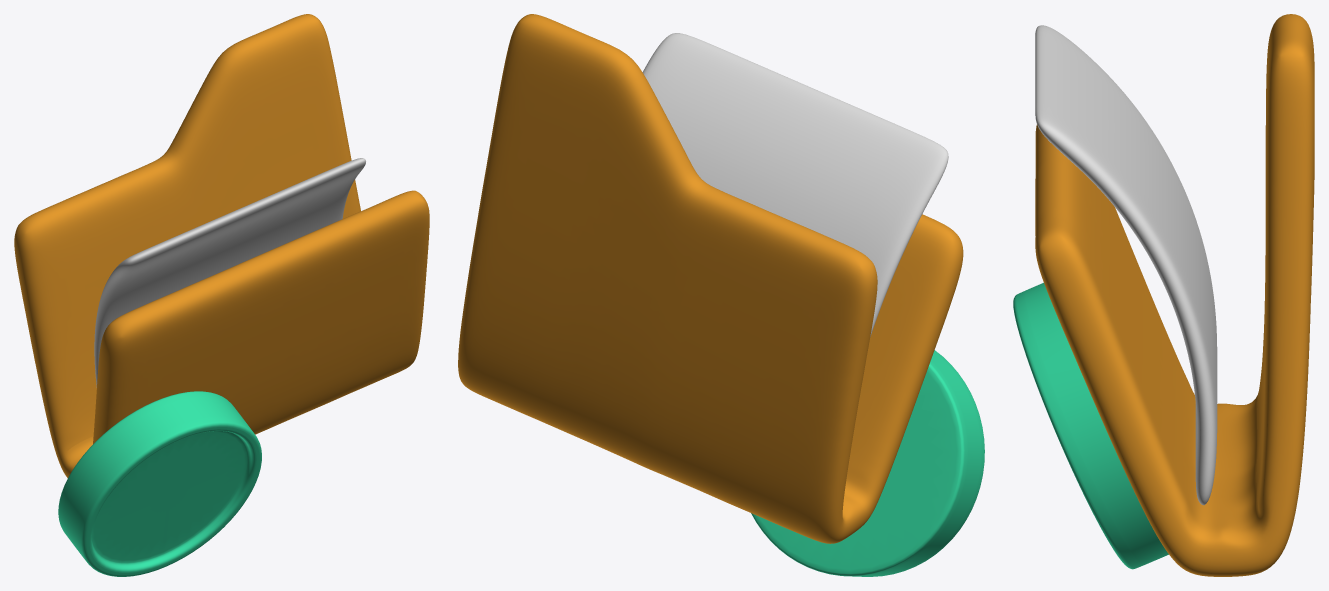
File: folder-access-allowed-animated-3d-icon-1664919700428.glb
3 views of the same model, side by side, from view 1: azimuth 30°, elevation 25°; view 2: azimuth 150°, elevation 25°; view 3: azimuth 270°, elevation 25° (orthographic). The views are drawn at different scales.
Parts seen in each view (by area): view 1: Folder.001, Base.001, File 1.001; view 2: Folder.001, File 1.001, Base.001; view 3: Folder.001, File 1.001, Base.001.
Boxes of the visible parts, bbox=[...] form: Folder.001: bbox=[14, 14, 429, 477]; Base.001: bbox=[58, 391, 261, 576]; File 1.001: bbox=[94, 158, 365, 387]; Folder.001: bbox=[458, 14, 963, 543]; File 1.001: bbox=[642, 33, 948, 336]; Base.001: bbox=[751, 350, 984, 576]; Folder.001: bbox=[1035, 14, 1314, 576]; File 1.001: bbox=[1035, 25, 1217, 505]; Base.001: bbox=[1013, 282, 1168, 569].
Size of what is drawn, in the model's own units: 2.16 by 2.54 by 1.06.
